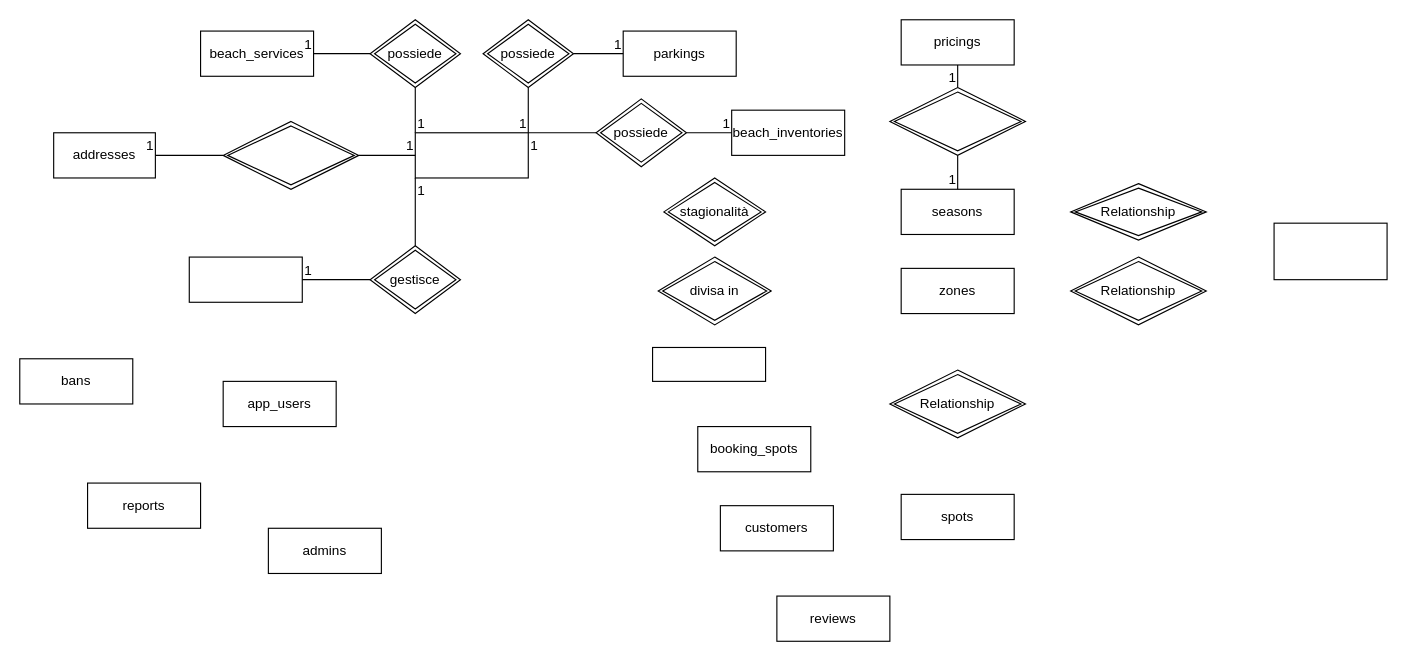
Image size: 1407x661. Some labels were removed from this diagram. Each missing label, with the centre of its shape:
"beaches" goes at (471,155).
"bookings" goes at (708,363).
"owner" goes at (245,279).
"situato" goes at (290,154).
"tariffa" goes at (957,120).
"zone_pricings" goes at (1330,251).
